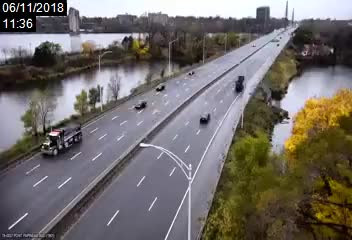personal_car: (196, 110, 212, 123), (133, 98, 148, 111), (155, 81, 166, 92), (186, 69, 195, 75)
truck: (39, 121, 84, 157), (231, 75, 247, 92)
